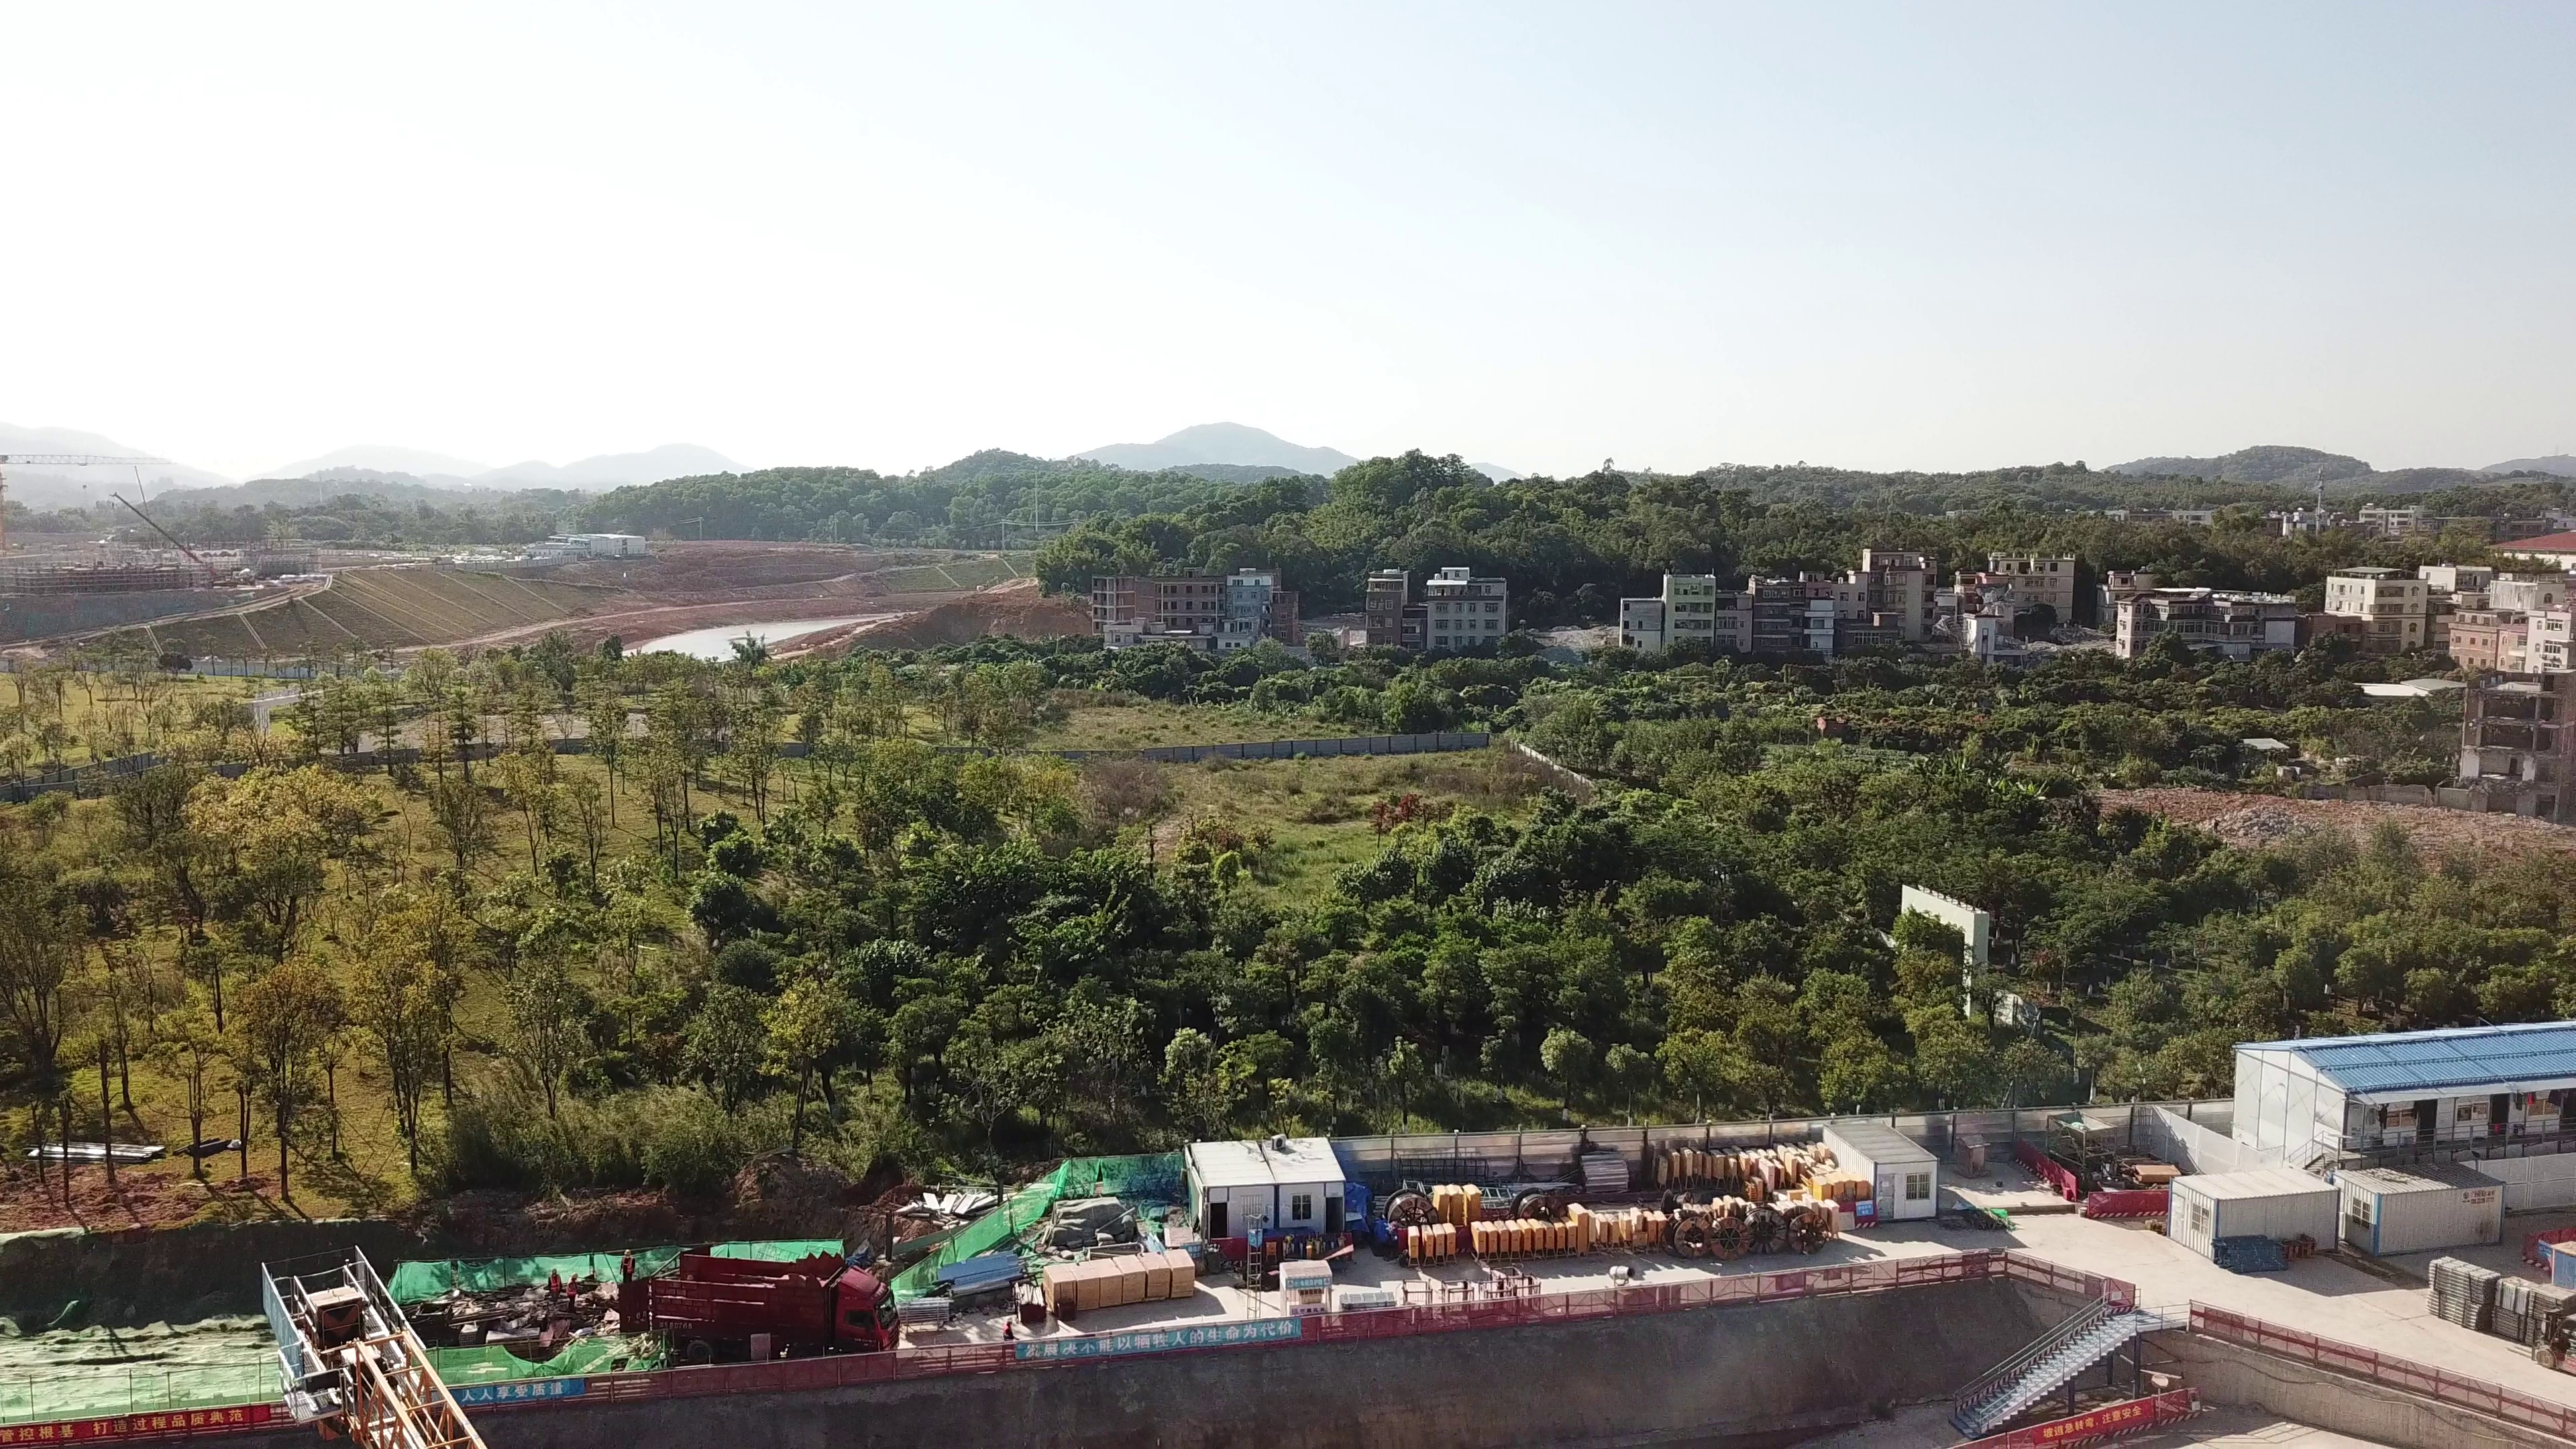fence: (1422, 1059, 1919, 1161), (1460, 1252, 2060, 1315)
helmet: (623, 1249, 633, 1256), (550, 1267, 559, 1274), (572, 1271, 579, 1280), (1005, 1317, 1015, 1322)
person: (563, 1272, 582, 1309), (545, 1264, 562, 1303), (1001, 1313, 1021, 1345), (621, 1248, 636, 1287)
scaffold: (2408, 1258, 2539, 1344), (890, 1295, 957, 1331), (1015, 1282, 1047, 1320)
slogan: (9, 1384, 262, 1433), (429, 1364, 588, 1415), (1016, 1328, 1299, 1346), (2036, 1394, 2151, 1436)
vest: (620, 1255, 633, 1273), (1004, 1325, 1015, 1343), (550, 1275, 561, 1294), (566, 1281, 579, 1294)
wood: (1046, 1257, 1203, 1304)
